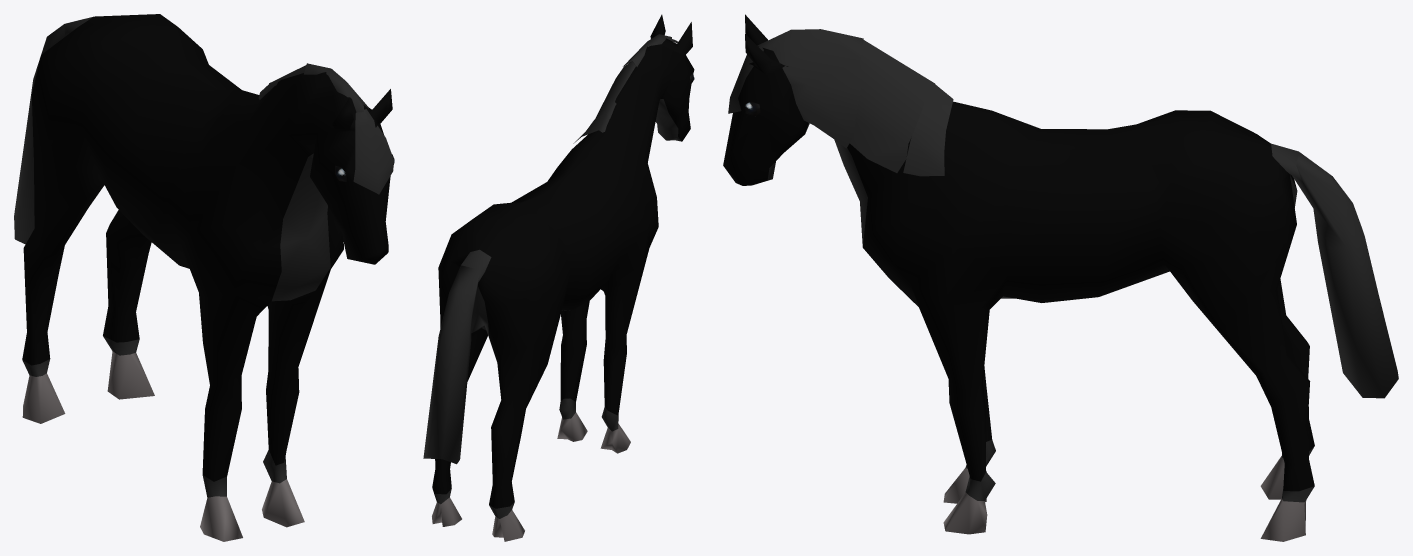
File: Horse03.glb
The picture shows the model from 3 angles, left to right: view 1: azimuth 30°, elevation 25°; view 2: azimuth 150°, elevation 25°; view 3: azimuth 270°, elevation 25°; orthographic projection. The views are drawn at different scales.
Visible parts, largest first — view 1: Horse03; view 2: Horse03; view 3: Horse03.
Boxes of the visible parts, left/top/right/bottom form: Horse03: left=14, top=14, right=394, bottom=541; Horse03: left=423, top=14, right=694, bottom=541; Horse03: left=723, top=14, right=1398, bottom=541.
Size of what is drawn, in the model's own units: 0.6081 by 2.01 by 2.51.
Materials: 1 (1 with a texture image).
